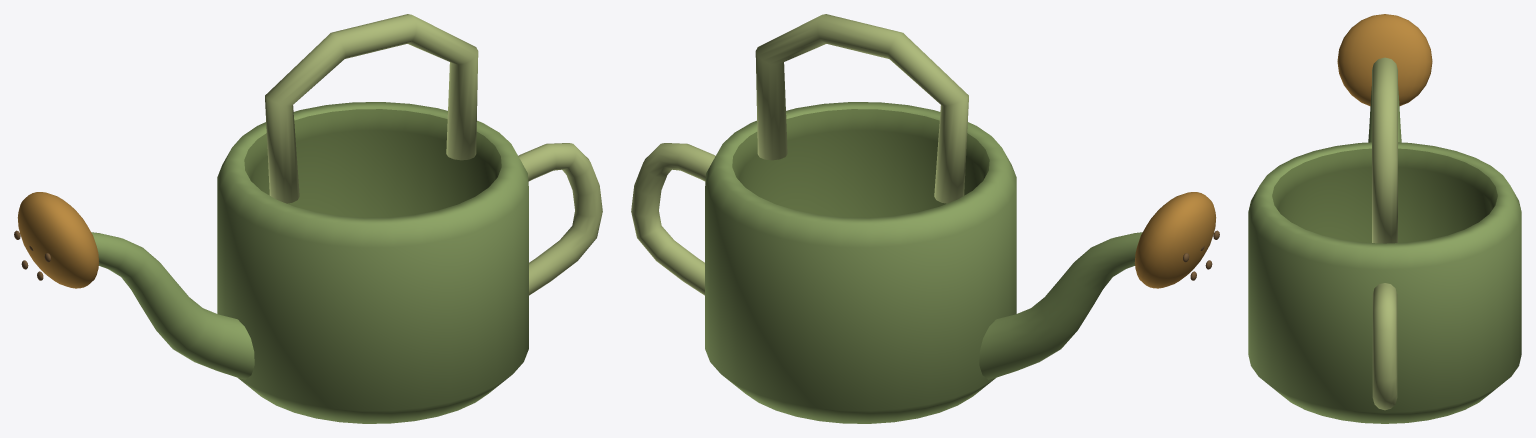
Rendered from garden_watering_can.glb.
3 renders of one model, left to right at view 1: azimuth 30°, elevation 25°; view 2: azimuth 150°, elevation 25°; view 3: azimuth 270°, elevation 25°, orthographic. The views are drawn at different scales.
Visible parts, largest first — view 1: GardenGeometryGeometry; view 2: GardenGeometryGeometry; view 3: GardenGeometryGeometry.
Boxes of the visible parts, x1=… form: GardenGeometryGeometry: x1=14, y1=14, x2=602, y2=423; GardenGeometryGeometry: x1=631, y1=14, x2=1219, y2=423; GardenGeometryGeometry: x1=1248, y1=14, x2=1521, y2=423.
Bounding box in the file's own units: 1.95 × 1.12 × 0.92.
